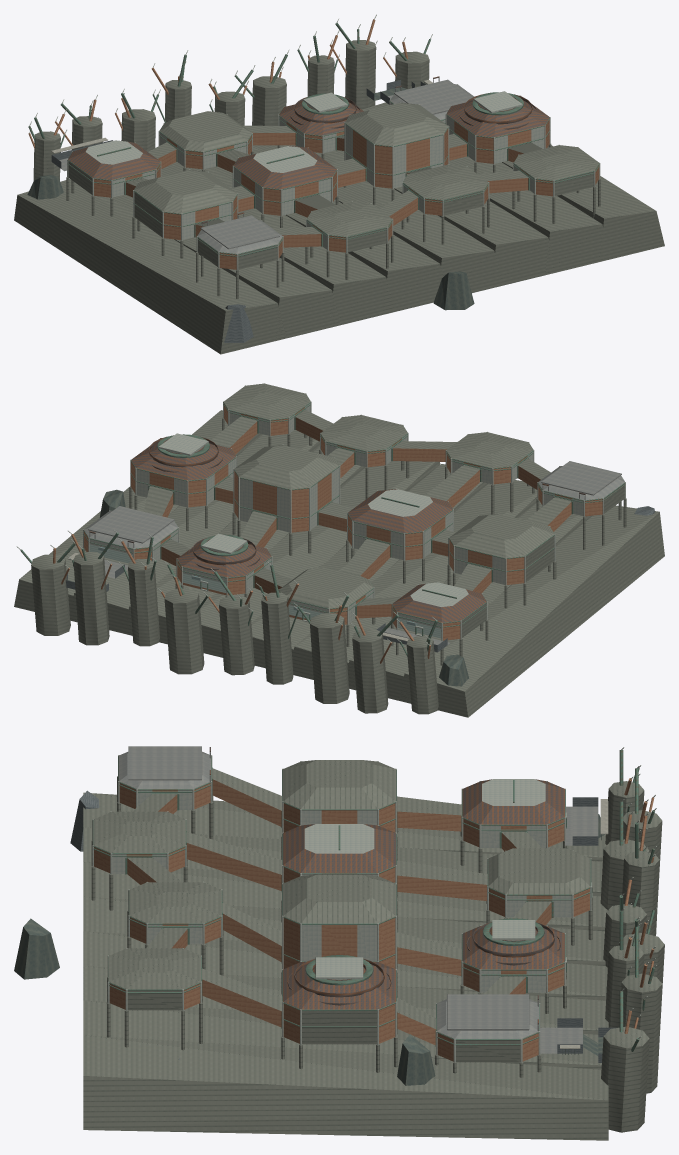
File: corrective.glb
3 renders of one model, top to bottom at view 1: azimuth 30°, elevation 25°; view 2: azimuth 150°, elevation 25°; view 3: azimuth 270°, elevation 25°, orthographic. The views are drawn at different scales.
Parts seen in each view (by area): view 1: kit.reef.navy.00, kit.base.navy.00, kit.base.coral.00, kit.base.ivory.00, kit.terraced-laboratories.oxidized-iron.00, kit.residential-operations.oxidized-iron.00, kit.legacy-detail.navy.01, kit.residential-operations.cast-seams.00, kit.pump-energy.oxidized-iron.00, kit.reef.deep-silt.00, kit.pump-energy.cast-seams.00, kit.terraced-laboratories.ceramic-enamel.00 (+14 smaller); view 2: kit.reef.navy.00, kit.base.navy.00, kit.base.coral.00, kit.base.ivory.00, kit.terraced-laboratories.oxidized-iron.00, kit.pump-energy.cast-seams.00, kit.residential-operations.oxidized-iron.00, kit.residential-operations.cast-seams.00, kit.pump-energy.oxidized-iron.00, kit.legacy-detail.navy.01, kit.terraced-laboratories.ceramic-enamel.00, kit.reef.copper.00 (+15 smaller); view 3: kit.reef.navy.00, kit.base.navy.00, kit.base.coral.00, kit.terraced-laboratories.oxidized-iron.00, kit.base.ivory.00, kit.pump-energy.cast-seams.00, kit.residential-operations.oxidized-iron.00, kit.residential-operations.cast-seams.00, kit.reef.deep-silt.00, kit.pump-energy.oxidized-iron.00, kit.terraced-laboratories.ceramic-enamel.00, kit.legacy-detail.navy.01 (+20 smaller).
Part boxes in pixels (left/top/right/bottom): kit.reef.navy.00: left=14, top=40, right=664, bottom=354; kit.base.navy.00: left=68, top=102, right=598, bottom=269; kit.base.coral.00: left=94, top=119, right=599, bottom=269; kit.base.ivory.00: left=112, top=102, right=544, bottom=249; kit.terraced-laboratories.oxidized-iron.00: left=68, top=96, right=363, bottom=179; kit.residential-operations.oxidized-iron.00: left=201, top=94, right=549, bottom=223; kit.legacy-detail.navy.01: left=196, top=144, right=600, bottom=298; kit.residential-operations.cast-seams.00: left=197, top=213, right=282, bottom=253; kit.pump-energy.oxidized-iron.00: left=233, top=76, right=439, bottom=189; kit.reef.deep-silt.00: left=27, top=175, right=474, bottom=310; kit.pump-energy.cast-seams.00: left=390, top=78, right=473, bottom=119; kit.terraced-laboratories.ceramic-enamel.00: left=85, top=92, right=347, bottom=164; kit.reef.navy.00: left=14, top=410, right=664, bottom=717; kit.base.navy.00: left=89, top=383, right=624, bottom=640; kit.base.coral.00: left=84, top=404, right=602, bottom=640; kit.base.ivory.00: left=89, top=403, right=583, bottom=631; kit.terraced-laboratories.oxidized-iron.00: left=177, top=538, right=486, bottom=622; kit.pump-energy.cast-seams.00: left=84, top=506, right=178, bottom=548; kit.residential-operations.oxidized-iron.00: left=131, top=436, right=585, bottom=494; kit.residential-operations.cast-seams.00: left=538, top=461, right=624, bottom=500; kit.pump-energy.oxidized-iron.00: left=89, top=489, right=452, bottom=543; kit.legacy-detail.navy.01: left=129, top=417, right=626, bottom=553; kit.terraced-laboratories.ceramic-enamel.00: left=200, top=533, right=468, bottom=636; kit.reef.copper.00: left=20, top=532, right=437, bottom=656; kit.reef.navy.00: left=83, top=781, right=664, bottom=1140; kit.base.navy.00: left=93, top=760, right=590, bottom=1062; kit.base.coral.00: left=94, top=779, right=589, bottom=1061; kit.terraced-laboratories.oxidized-iron.00: left=462, top=779, right=564, bottom=969; kit.base.ivory.00: left=112, top=789, right=571, bottom=992; kit.pump-energy.cast-seams.00: left=437, top=994, right=539, bottom=1038; kit.residential-operations.oxidized-iron.00: left=209, top=747, right=395, bottom=1009; kit.residential-operations.cast-seams.00: left=119, top=746, right=211, bottom=788; kit.reef.deep-silt.00: left=14, top=814, right=605, bottom=1085; kit.pump-energy.oxidized-iron.00: left=283, top=824, right=538, bottom=1024; kit.terraced-laboratories.ceramic-enamel.00: left=482, top=779, right=592, bottom=973; kit.legacy-detail.navy.01: left=91, top=776, right=397, bottom=1072.
Bounding box in the file's own units: 267 × 70.65 × 254.
Materials: 14 (11 with a texture image).
